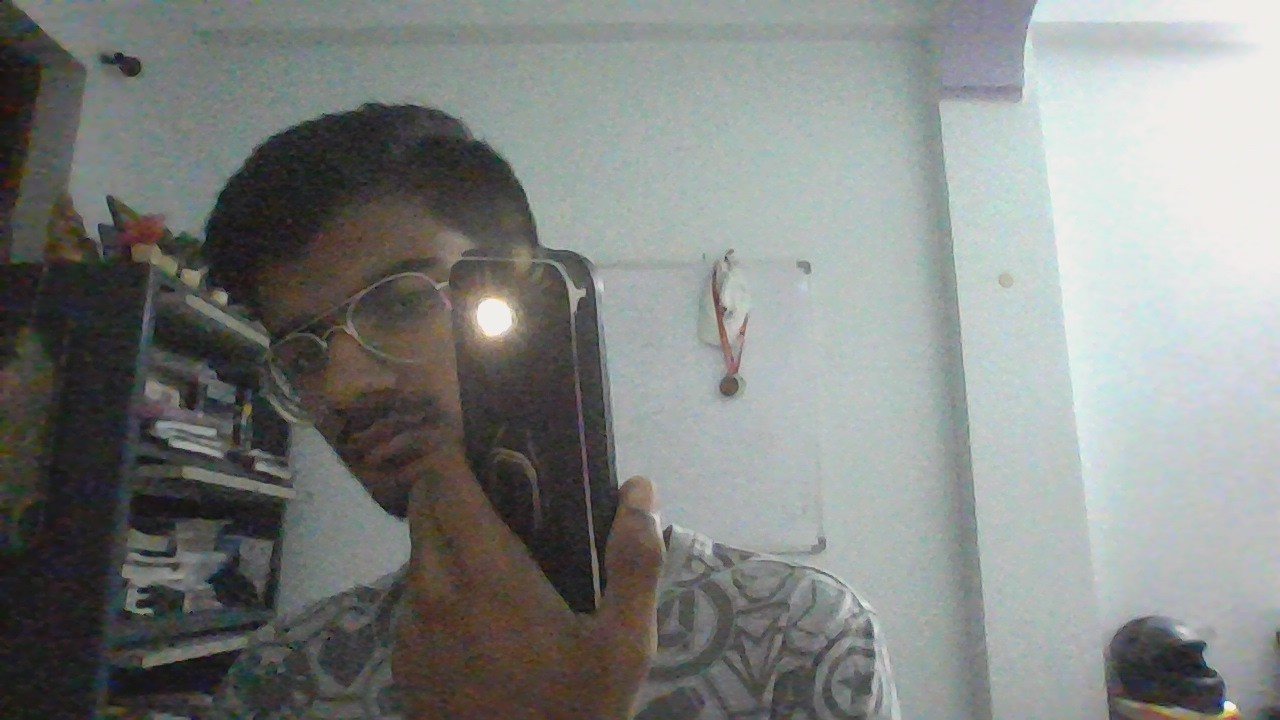Glare: (475, 300, 515, 337)
